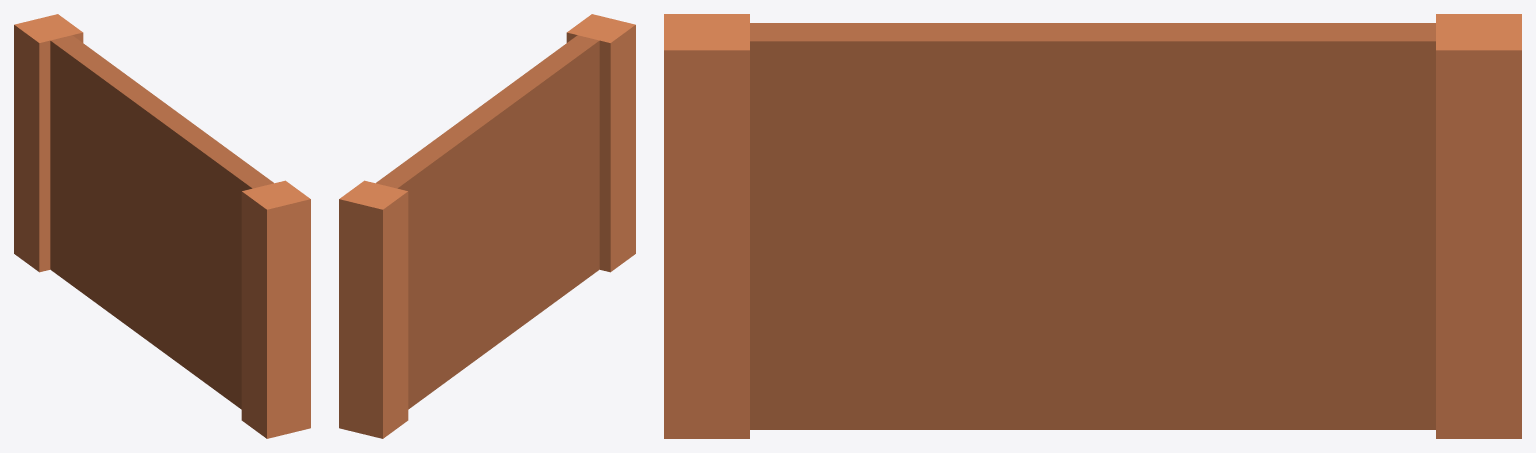
Rendered from wallWoodHalf.fbx.
3 views of the same model, side by side, from view 1: azimuth 30°, elevation 25°; view 2: azimuth 150°, elevation 25°; view 3: azimuth 270°, elevation 25° (orthographic). The views are drawn at different scales.
Visible parts, largest first — view 1: wallWoodHalf; view 2: wallWoodHalf; view 3: wallWoodHalf.
Boxes of the visible parts, bbox=[...] form: wallWoodHalf: bbox=[14, 14, 310, 438]; wallWoodHalf: bbox=[339, 14, 635, 438]; wallWoodHalf: bbox=[664, 14, 1521, 438].
Bounding box in the file's own units: 1 × 5 × 10.
